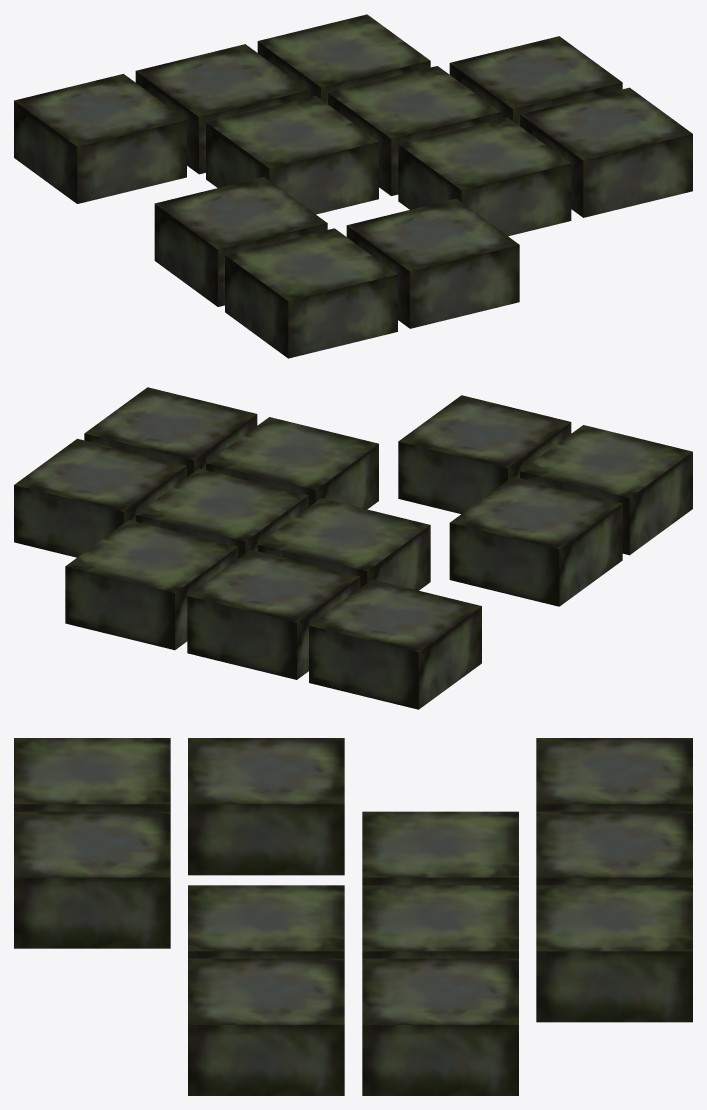
The model's file is cobblestone-03.fbx.
3 views of the same model, one above another, from view 1: azimuth 30°, elevation 25°; view 2: azimuth 150°, elevation 25°; view 3: azimuth 270°, elevation 25° (orthographic). The views are drawn at different scales.
Visible parts, largest first — view 1: cobblestone_3; view 2: cobblestone_3; view 3: cobblestone_3.
Part boxes in pixels (left/top/right/bottom): cobblestone_3: left=14, top=14, right=692, bottom=358; cobblestone_3: left=14, top=387, right=692, bottom=709; cobblestone_3: left=14, top=738, right=692, bottom=1095.
Size of the model in its own units: 390 by 44.98 by 390.
